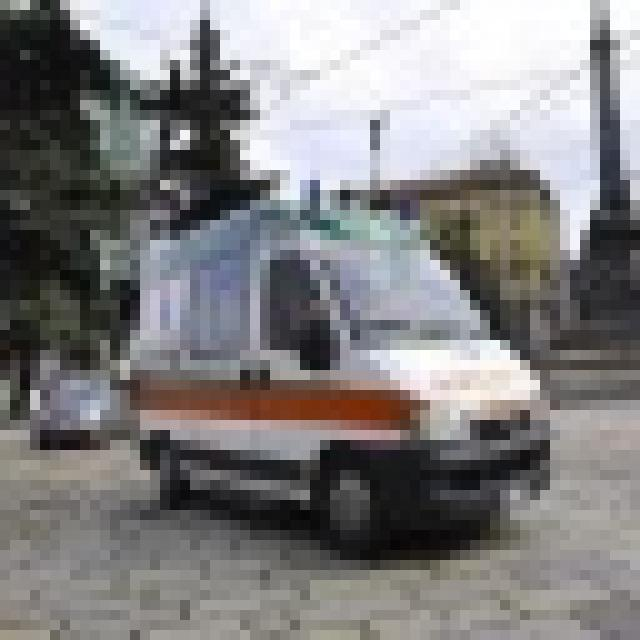Ambulance: (110, 170, 550, 550)
